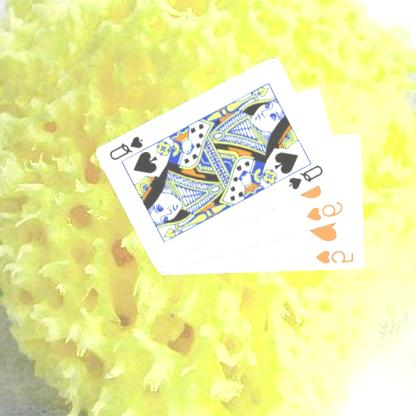5H: (315, 248, 357, 265)
6H: (306, 198, 347, 223)
QS: (288, 162, 326, 191), (108, 134, 146, 162)
